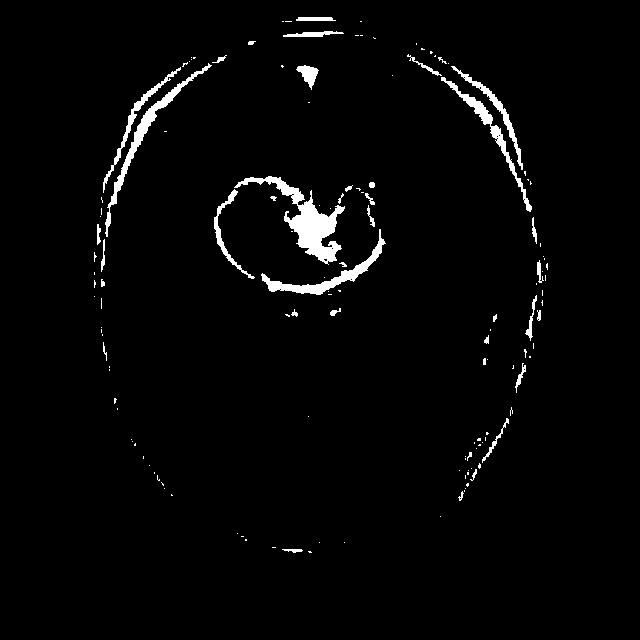Brain-Tumor: (205, 156, 414, 312)
